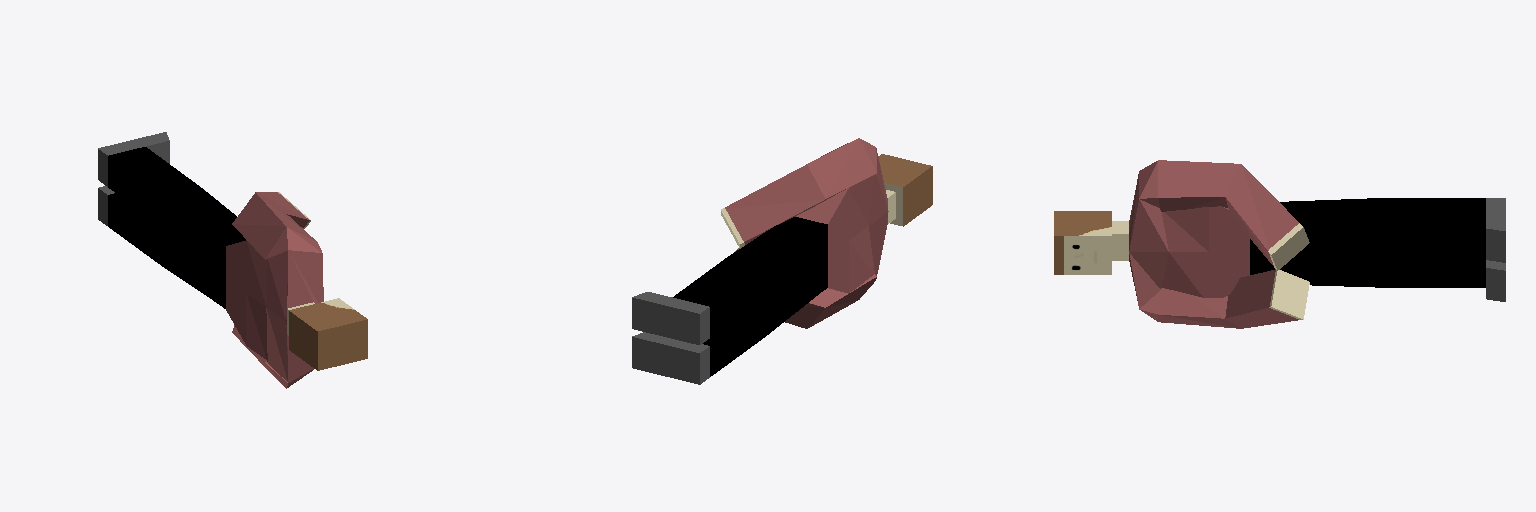
3 renders of one model, left to right at view 1: azimuth 30°, elevation 25°; view 2: azimuth 150°, elevation 25°; view 3: azimuth 270°, elevation 25°, orthographic.
Visible parts, largest first — view 1: RLeg.001; view 2: RLeg.001; view 3: RLeg.001.
Boxes of the visible parts, x1,y1,x2,y2 form: RLeg.001: [98, 132, 367, 388]; RLeg.001: [632, 138, 932, 384]; RLeg.001: [1054, 160, 1505, 328].
Size of the model in its own units: 0.4087 by 0.6272 by 1.56.
Materials: 1 (1 with a texture image).